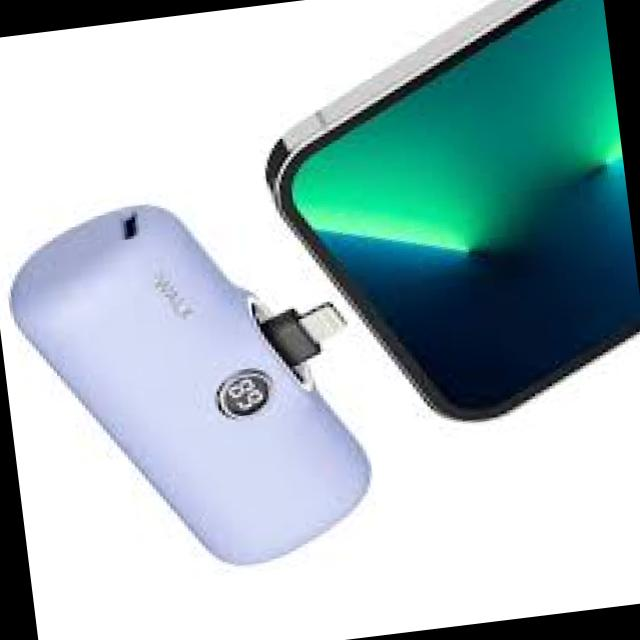power_bank: (0, 173, 389, 595)
